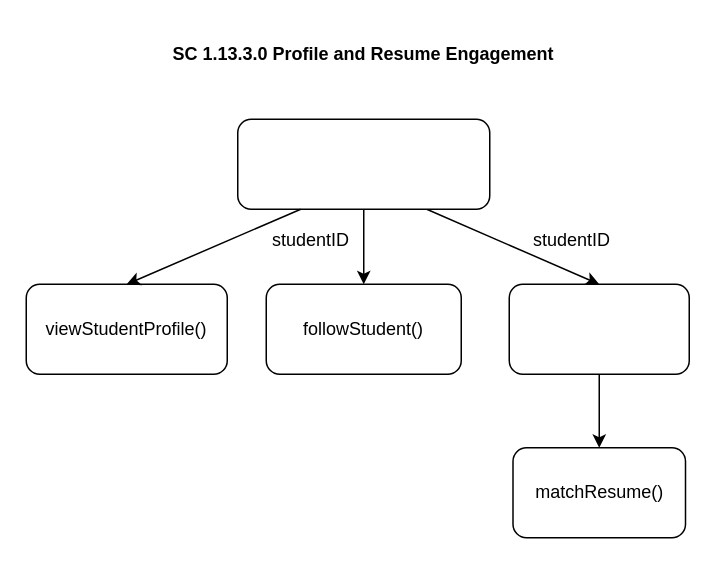
The diagram is 716 pixels wide and 564 high, and some of its shapes have lost their labels. The shapes that lost their labels are listed below. From the top down, each one's box as (x1, y1, x2, y2) in pixels, then its label:
(236, 118, 490, 209): engageProfileAndResume()
(508, 283, 689, 374): getResume()
